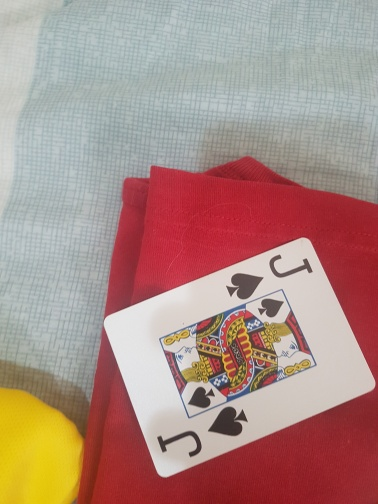jack: (104, 236, 378, 480)
